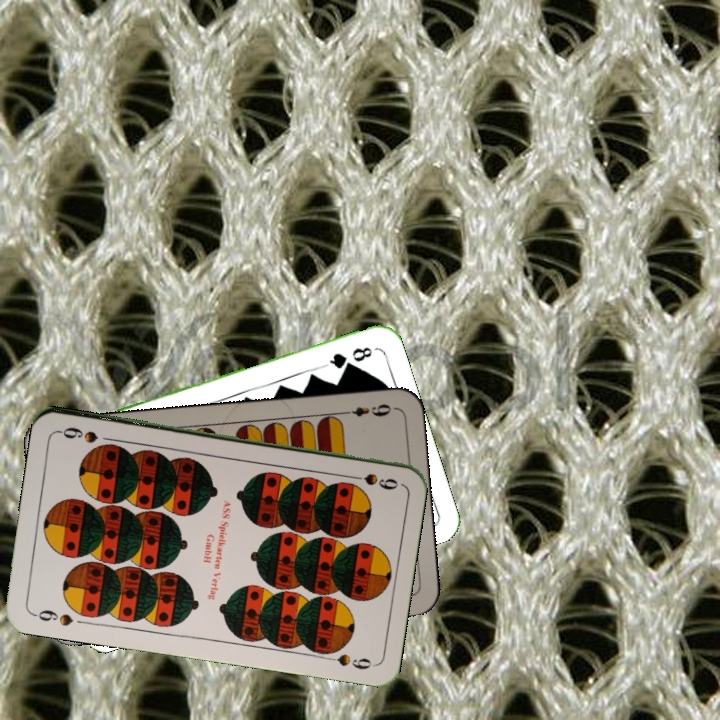E9: (338, 399, 397, 419)
G8: (320, 342, 375, 372)
S9: (342, 469, 401, 492), (28, 605, 76, 629)
